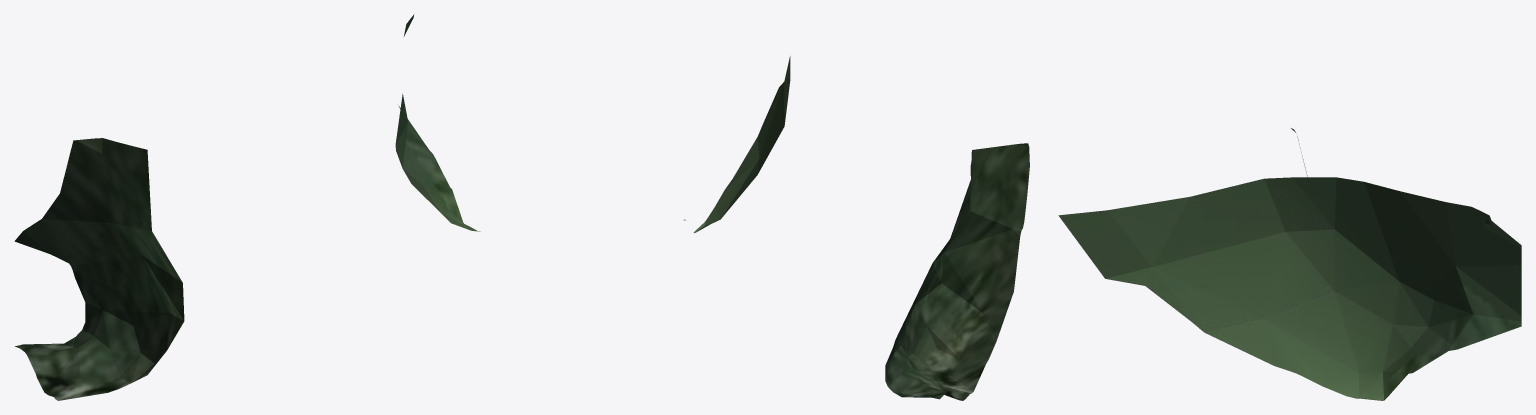
3 views of the same model, side by side, from view 1: azimuth 30°, elevation 25°; view 2: azimuth 150°, elevation 25°; view 3: azimuth 270°, elevation 25° (orthographic). The views are drawn at different scales.
Bounding box in the file's own units: 2.95 × 2 × 2.87.
Materials: 2 (2 with a texture image).
